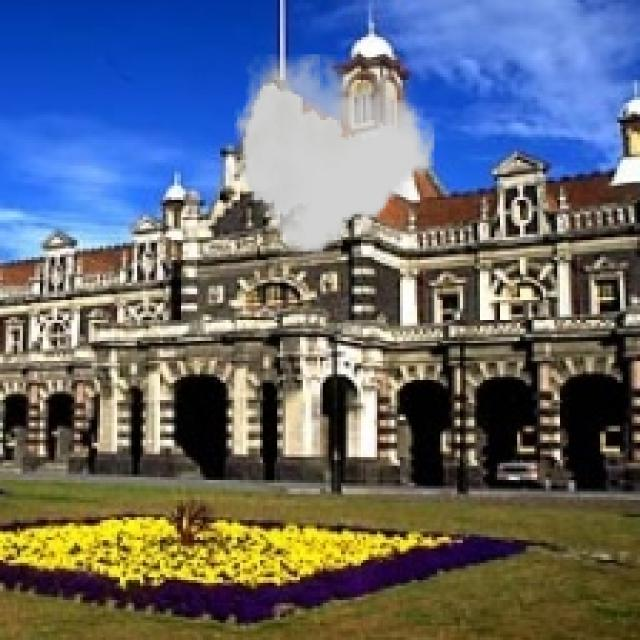smoke: (235, 54, 434, 254)
